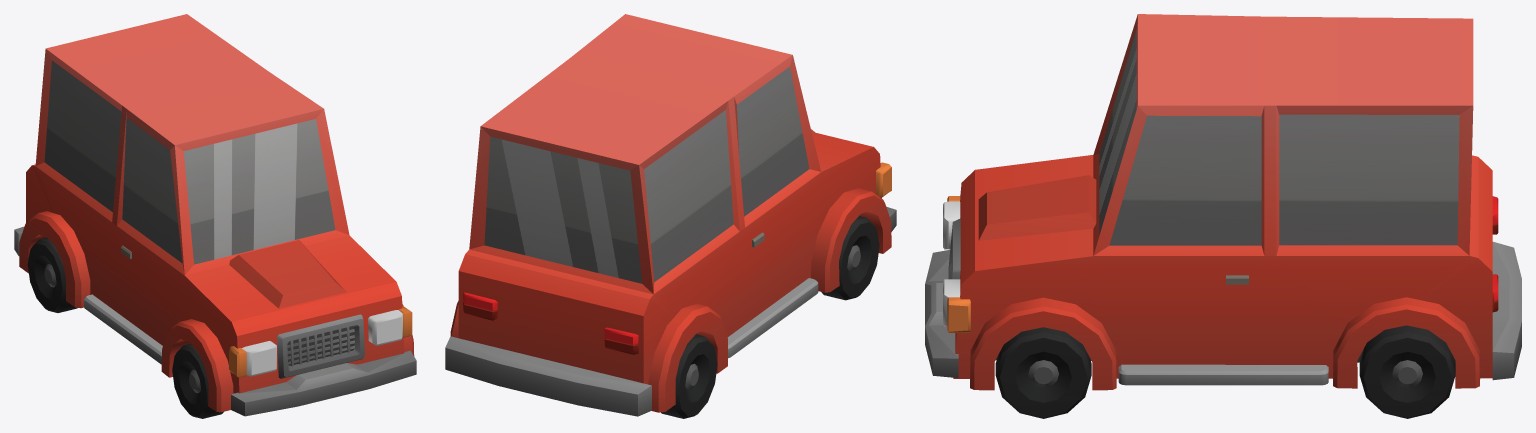
The model's file is Car_5_13.fbx.
3 views of the same model, side by side, from view 1: azimuth 30°, elevation 25°; view 2: azimuth 150°, elevation 25°; view 3: azimuth 270°, elevation 25° (orthographic). The views are drawn at different scales.
Parts seen in each view (by area): view 1: Car_5_13, W_br, W_fr; view 2: Car_5_13, W_br, W_fr; view 3: Car_5_13, W_bl, W_fl.
Boxes of the visible parts, bbox=[...] form: Car_5_13: bbox=[14, 14, 416, 416]; W_br: bbox=[27, 237, 77, 312]; W_fr: bbox=[172, 343, 223, 418]; Car_5_13: bbox=[445, 14, 896, 416]; W_br: bbox=[661, 334, 717, 418]; W_fr: bbox=[821, 216, 879, 300]; Car_5_13: bbox=[925, 14, 1521, 390]; W_bl: bbox=[1359, 325, 1455, 418]; W_fl: bbox=[995, 327, 1091, 418].
Bounding box in the file's own units: 1.13 × 1.3 × 2.33.
